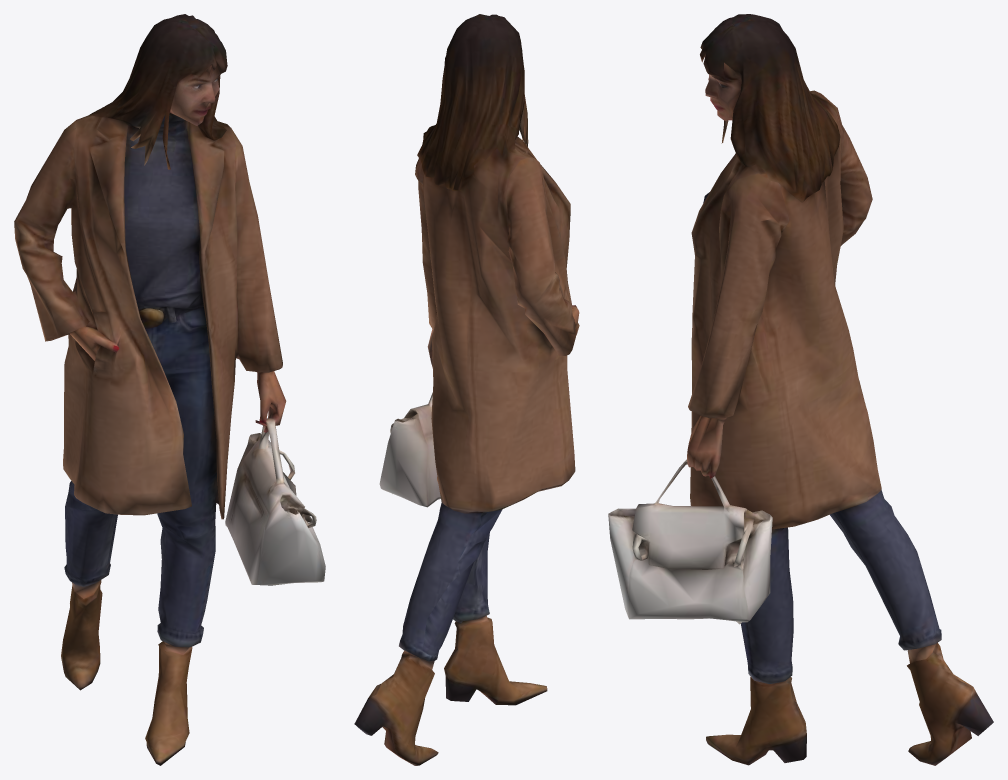
The picture shows the model from 3 angles, left to right: view 1: azimuth 30°, elevation 25°; view 2: azimuth 150°, elevation 25°; view 3: azimuth 270°, elevation 25°; orthographic projection. The views are drawn at different scales.
Visible parts, largest first — view 1: Object_2.002; view 2: Object_2.002; view 3: Object_2.002.
Boxes of the visible parts, bbox=[...] form: Object_2.002: bbox=[14, 14, 325, 765]; Object_2.002: bbox=[354, 14, 579, 765]; Object_2.002: bbox=[608, 14, 993, 765].
Size of the model in its own units: 0.5935 by 1.74 by 0.8113.
1 material, 1 textured.
